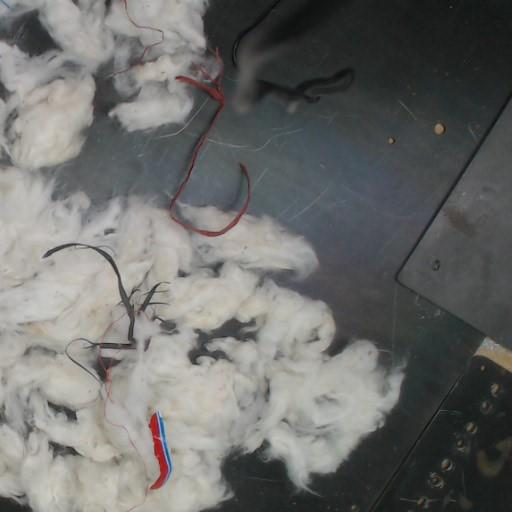conveyor belt: (182, 0, 511, 511), (182, 0, 511, 511), (50, 94, 215, 203), (57, 94, 214, 202), (2, 15, 52, 53)
packet: (149, 411, 172, 489)
thread: (42, 242, 162, 455), (168, 49, 250, 237), (123, 0, 165, 63)
